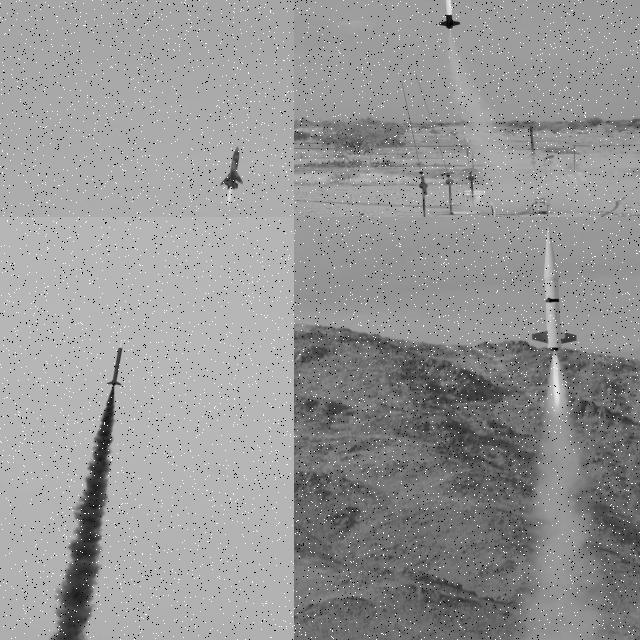Rocket: (531, 227, 578, 353), (220, 146, 243, 191), (106, 340, 124, 387), (438, 0, 461, 30)
